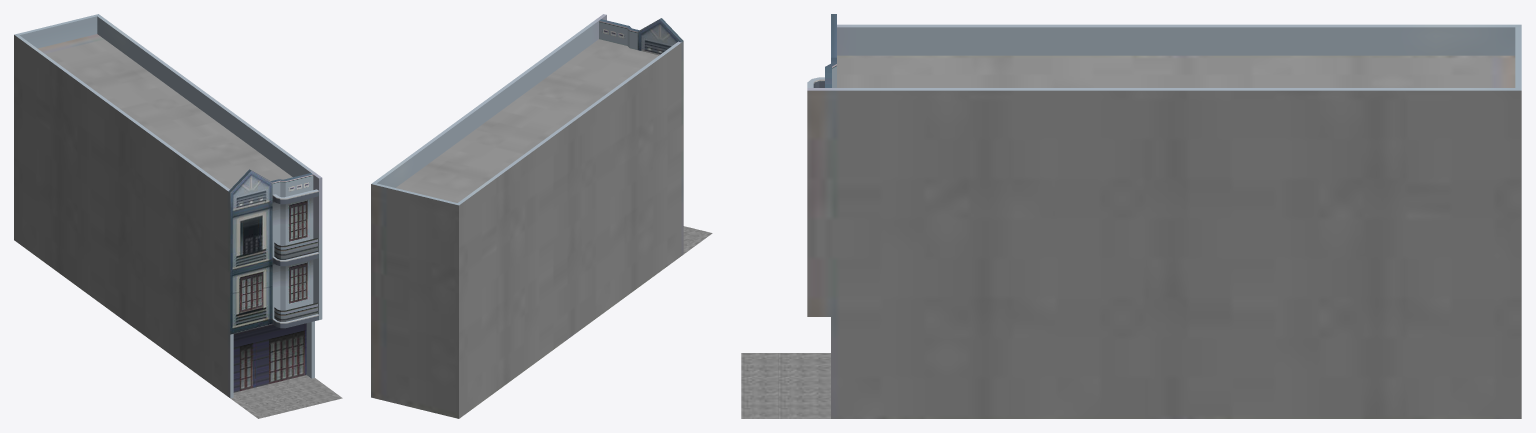
3 renders of one model, left to right at view 1: azimuth 30°, elevation 25°; view 2: azimuth 150°, elevation 25°; view 3: azimuth 270°, elevation 25°, orthographic. The views are drawn at different scales.
Parts seen in each view (by area): view 1: 5cdcceff9b24b8cd08c41a71.001; view 2: 5cdcceff9b24b8cd08c41a71.001; view 3: 5cdcceff9b24b8cd08c41a71.001.
Part boxes in pixels (x1,y1,x2,y2): 5cdcceff9b24b8cd08c41a71.001: (14,14,342,418); 5cdcceff9b24b8cd08c41a71.001: (371,14,712,418); 5cdcceff9b24b8cd08c41a71.001: (741,14,1521,418).
Size of the model in its own units: 5 by 12.57 by 25.
1 material, 1 textured.
